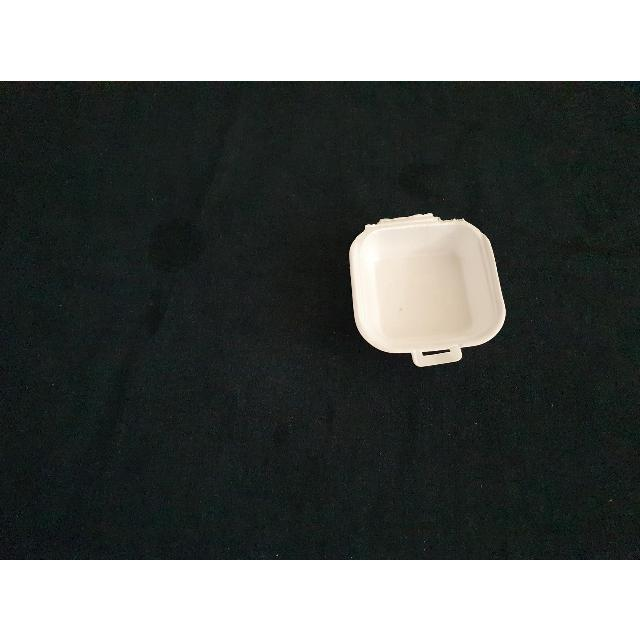Plastico descartable: (348, 215, 508, 369)
